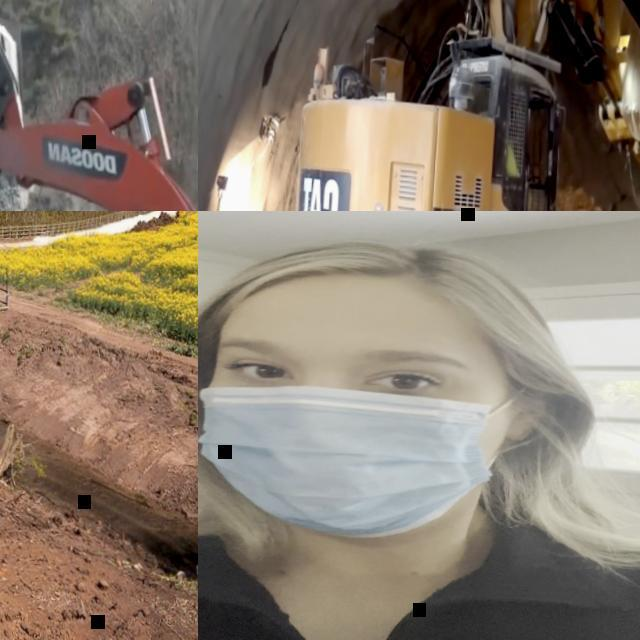Robbery: (201, 223, 639, 640)
